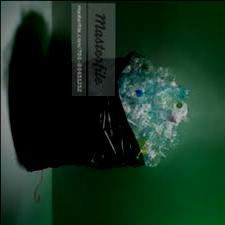Plastic: (119, 55, 192, 170)
